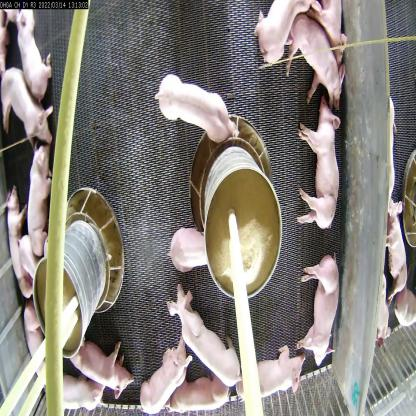Pig: (166, 281, 240, 391), (152, 72, 236, 149), (292, 104, 340, 234), (294, 252, 343, 370), (63, 330, 138, 406), (287, 11, 346, 102), (0, 63, 55, 153), (246, 0, 317, 68), (235, 345, 310, 409), (136, 337, 192, 415), (13, 6, 56, 106), (24, 139, 53, 258), (168, 365, 230, 416), (0, 183, 27, 292), (172, 214, 208, 279), (22, 302, 48, 389)
